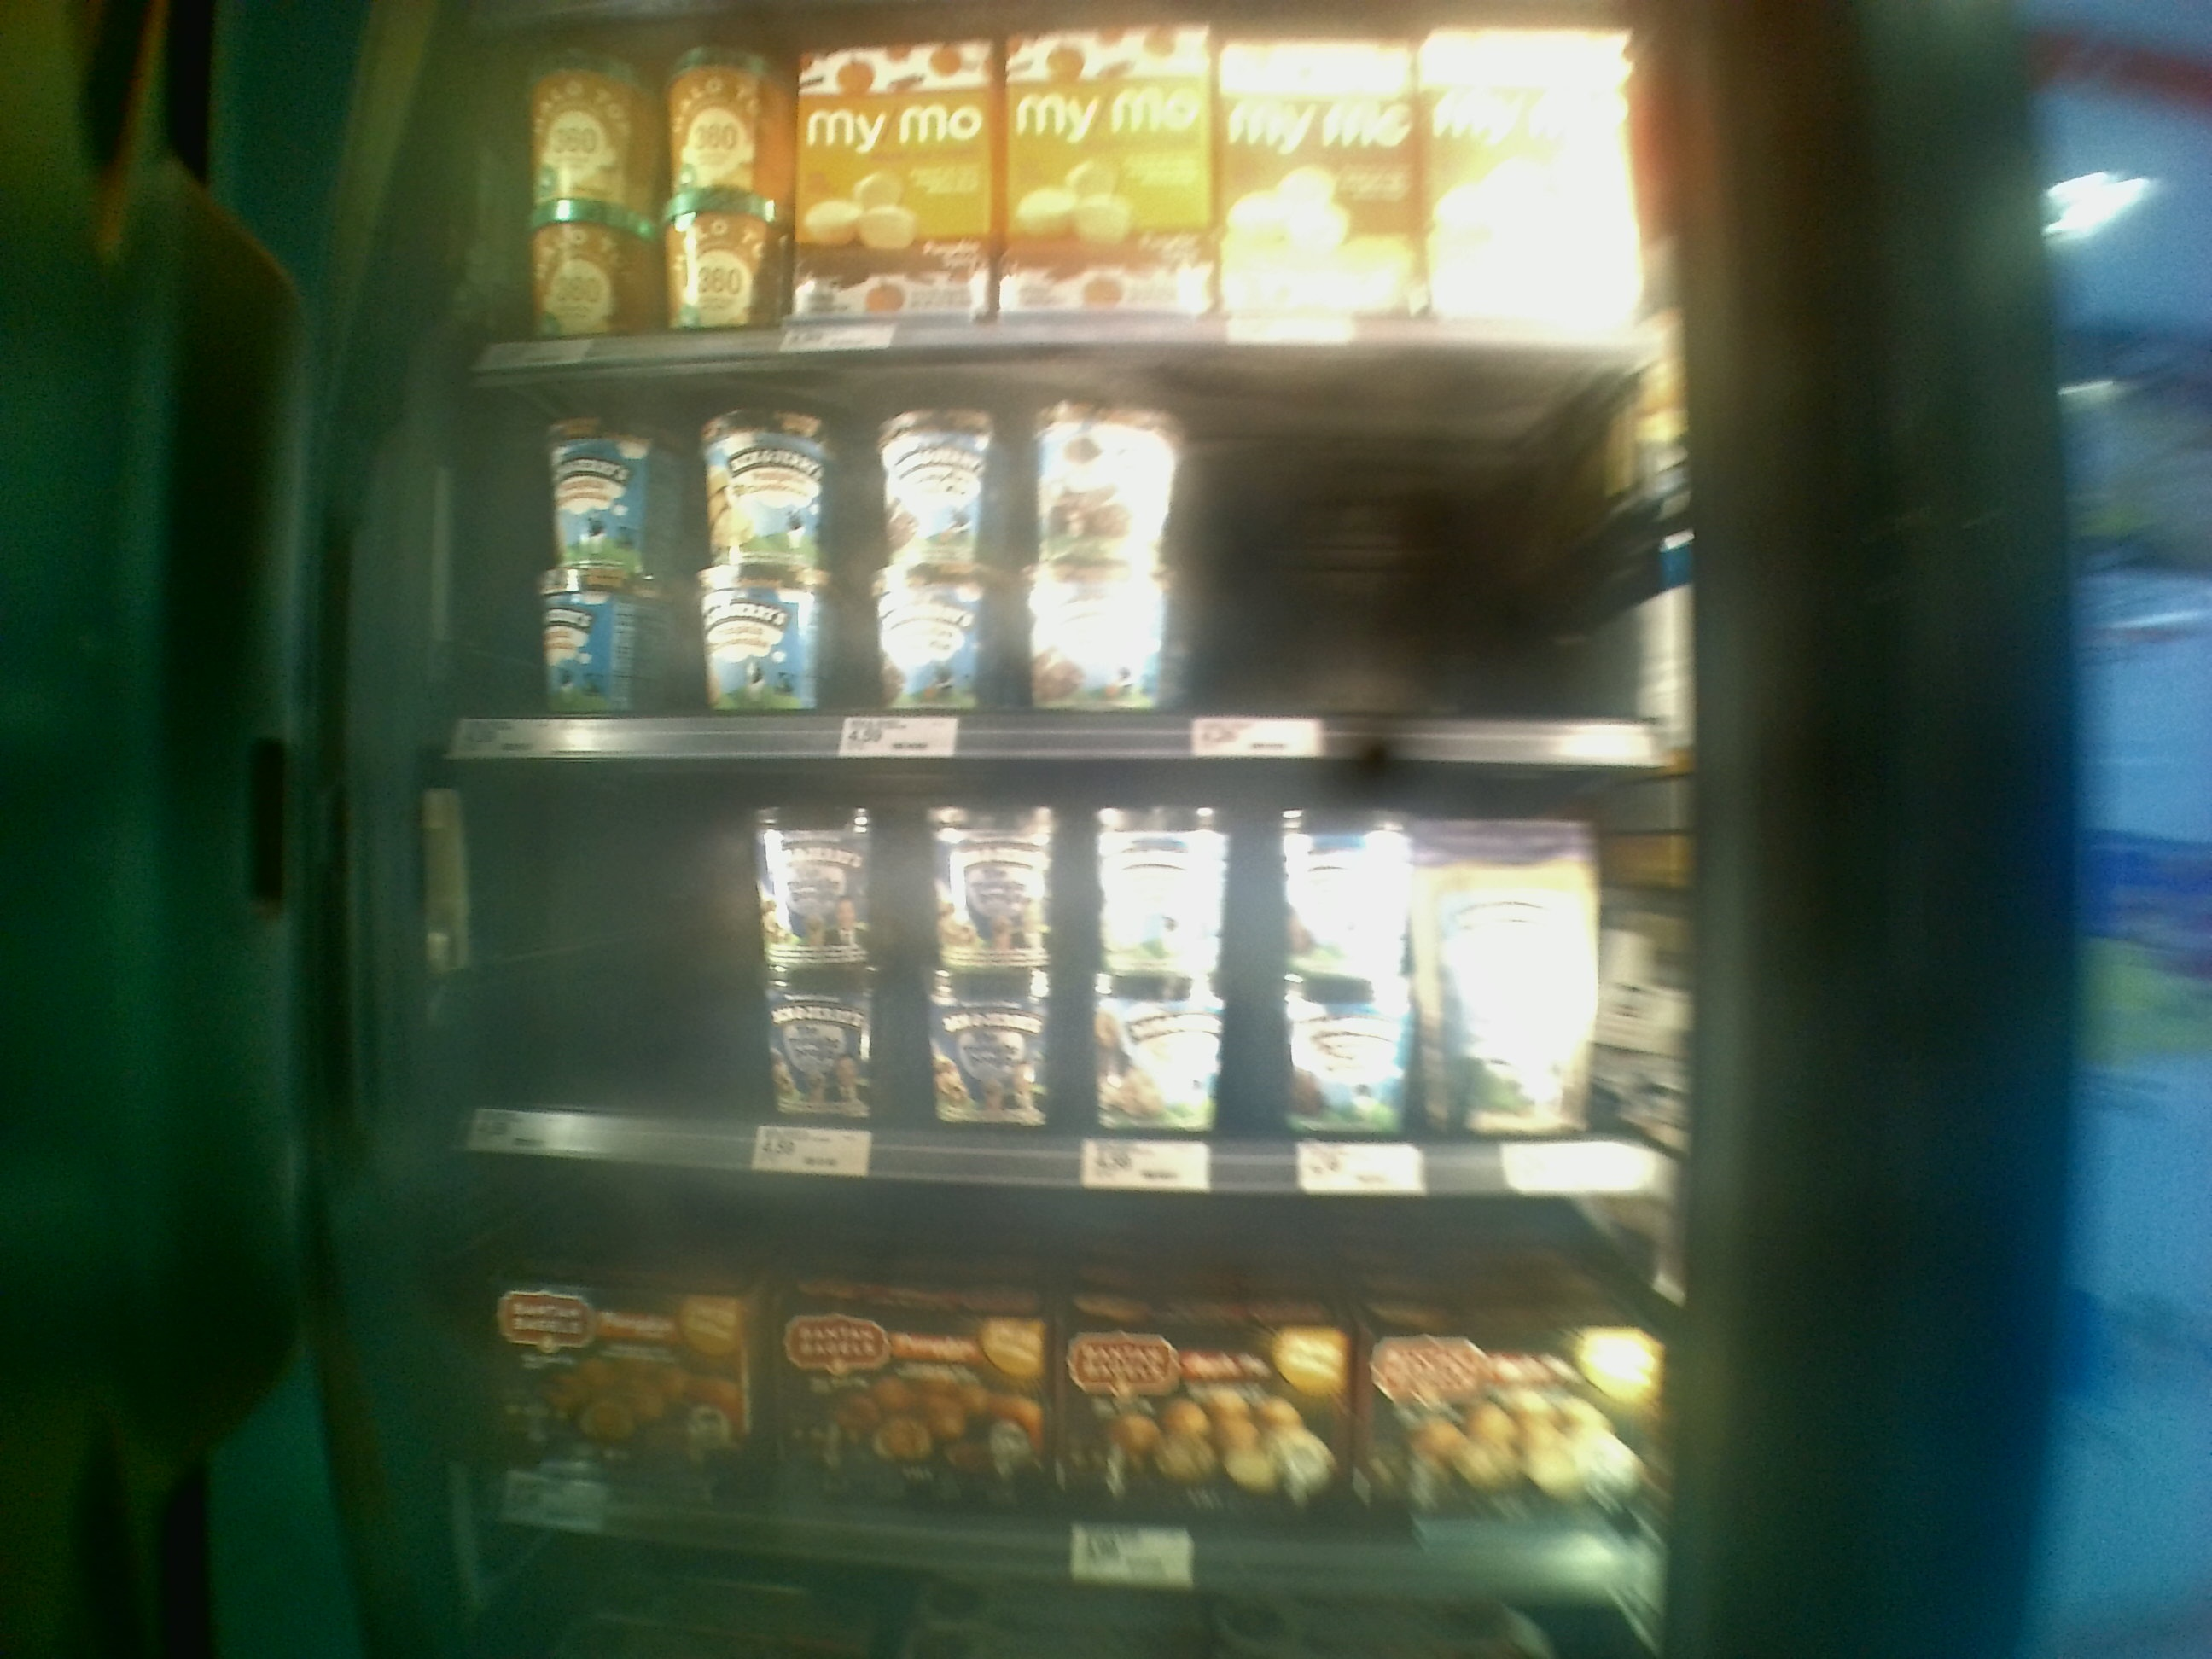shelf: (420, 1157, 1683, 1601), (432, 753, 1689, 1197), (435, 364, 1693, 779)
